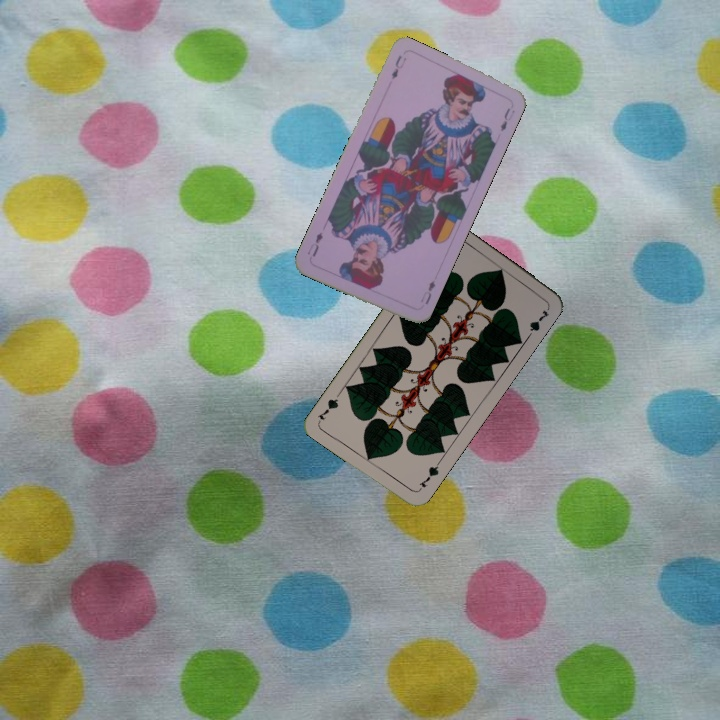EU: (416, 276, 438, 307), (387, 51, 409, 82)
G7: (414, 458, 442, 494)
